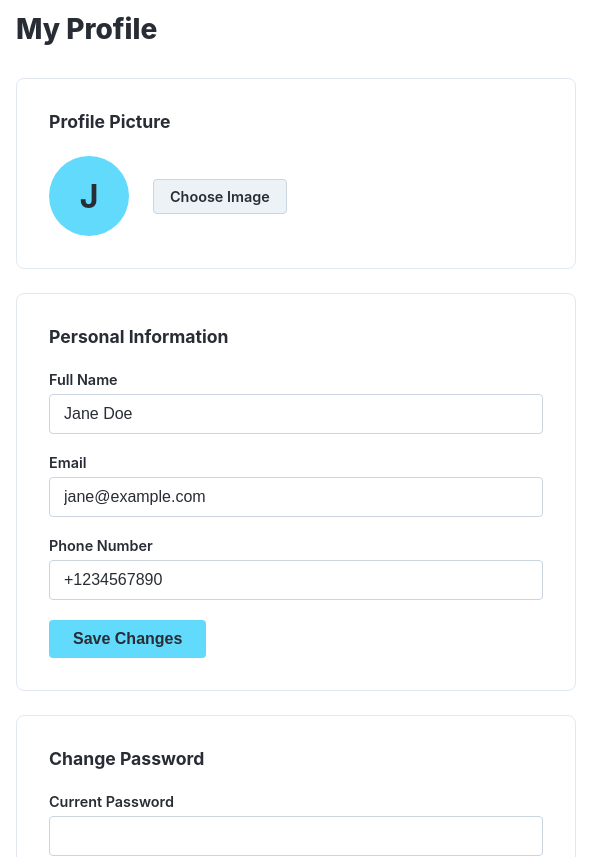
Test: ProfilePage › profile info form › shows a generic error banner when profile update fails without details
Expected: the field labelled "Full Name" is shown, [49,394,543,434]
Click the button "Save Changes" at x=128, y=639, box [49,620,206,658]
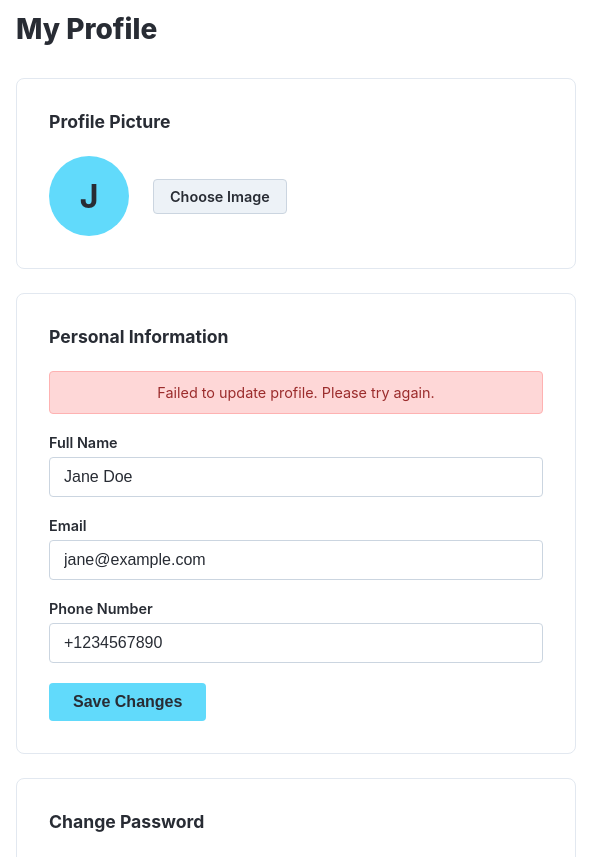
Expected: the message shows "Failed to update profile", [157,384,435,401]
